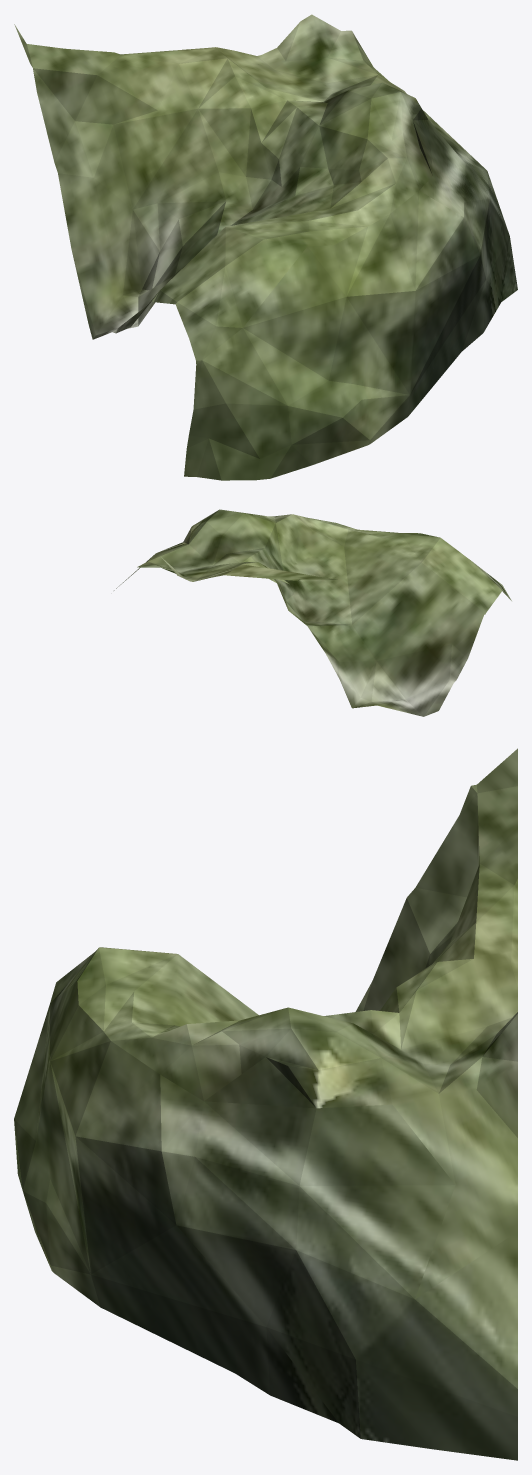
The picture shows the model from 3 angles, top to bottom: view 1: azimuth 30°, elevation 25°; view 2: azimuth 150°, elevation 25°; view 3: azimuth 270°, elevation 25°; orthographic projection. The views are drawn at different scales.
Size of the model in its own units: 2.01 by 1.33 by 1.45.
2 materials, 2 textured.
